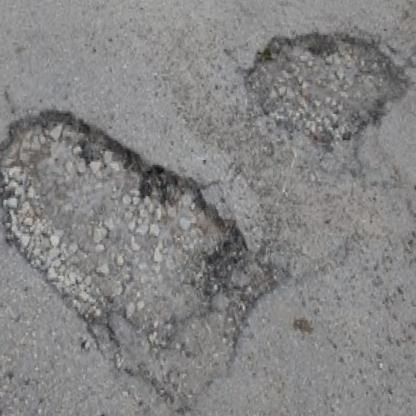pothole: (0, 100, 291, 416), (225, 21, 416, 288)
